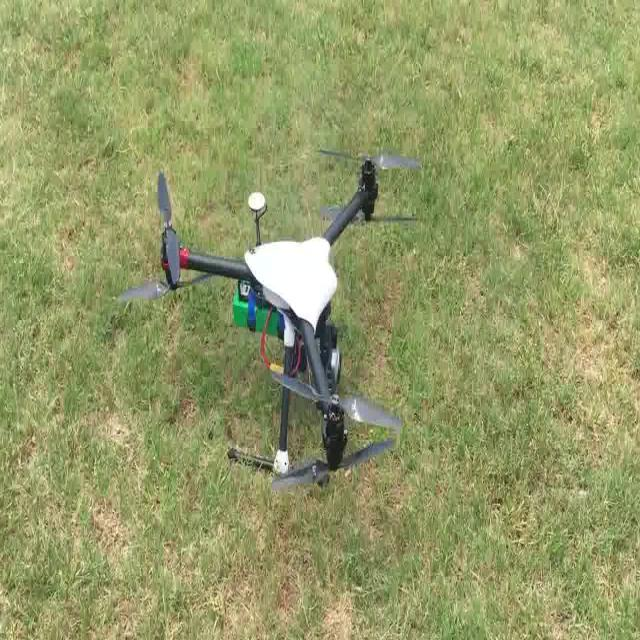Drone_FW: (116, 146, 422, 492)
